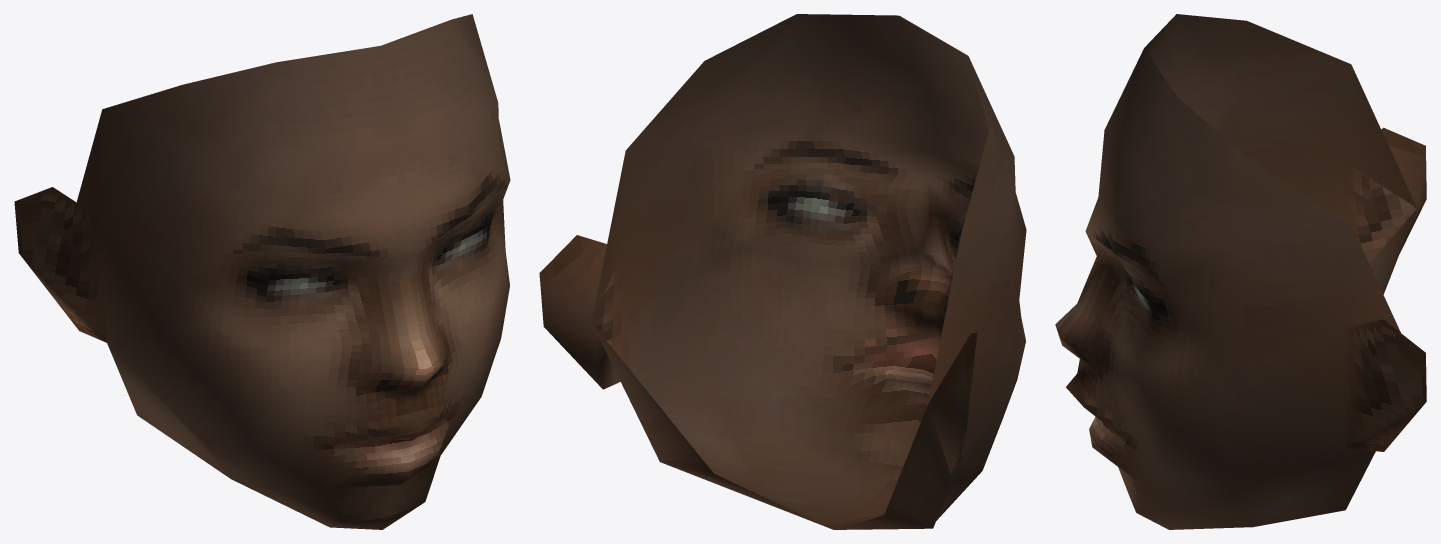
3 renders of one model, left to right at view 1: azimuth 30°, elevation 25°; view 2: azimuth 150°, elevation 25°; view 3: azimuth 270°, elevation 25°, orthographic. The views are drawn at different scales.
Parts seen in each view (by area): view 1: editpl_f-0000-1872, editpl_f-0000-1871; view 2: editpl_f-0000-1872, editpl_f-0000-1871; view 3: editpl_f-0000-1872, editpl_f-0000-1871.
Boxes of the visible parts, <box> form: editpl_f-0000-1872: <box>14,14,510,451</box>; editpl_f-0000-1871: <box>100,218,481,529</box>; editpl_f-0000-1872: <box>539,14,1026,474</box>; editpl_f-0000-1871: <box>592,249,1021,529</box>; editpl_f-0000-1872: <box>1055,14,1426,472</box>; editpl_f-0000-1871: <box>1056,162,1416,529</box>.
Size of the model in its own units: 19.4 by 20.74 by 14.72.
